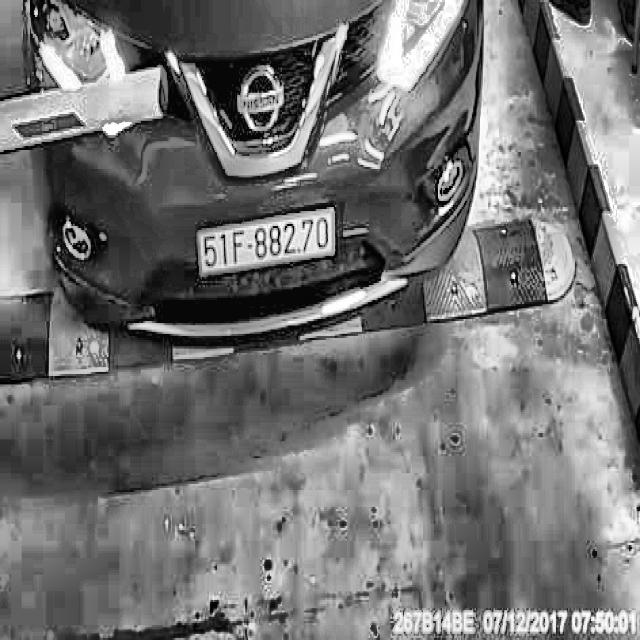plate: (196, 203, 340, 277)
